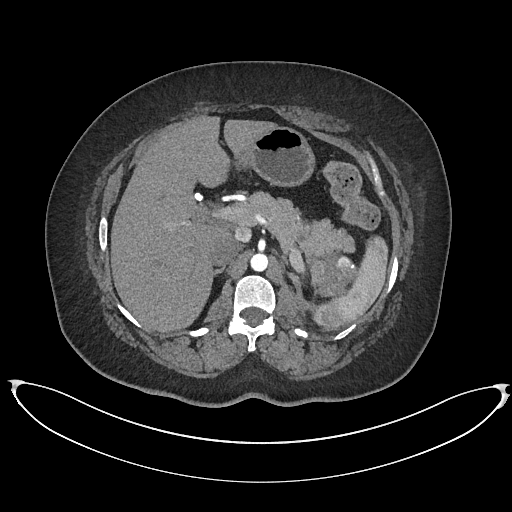Lesion: (337, 252, 353, 274)
